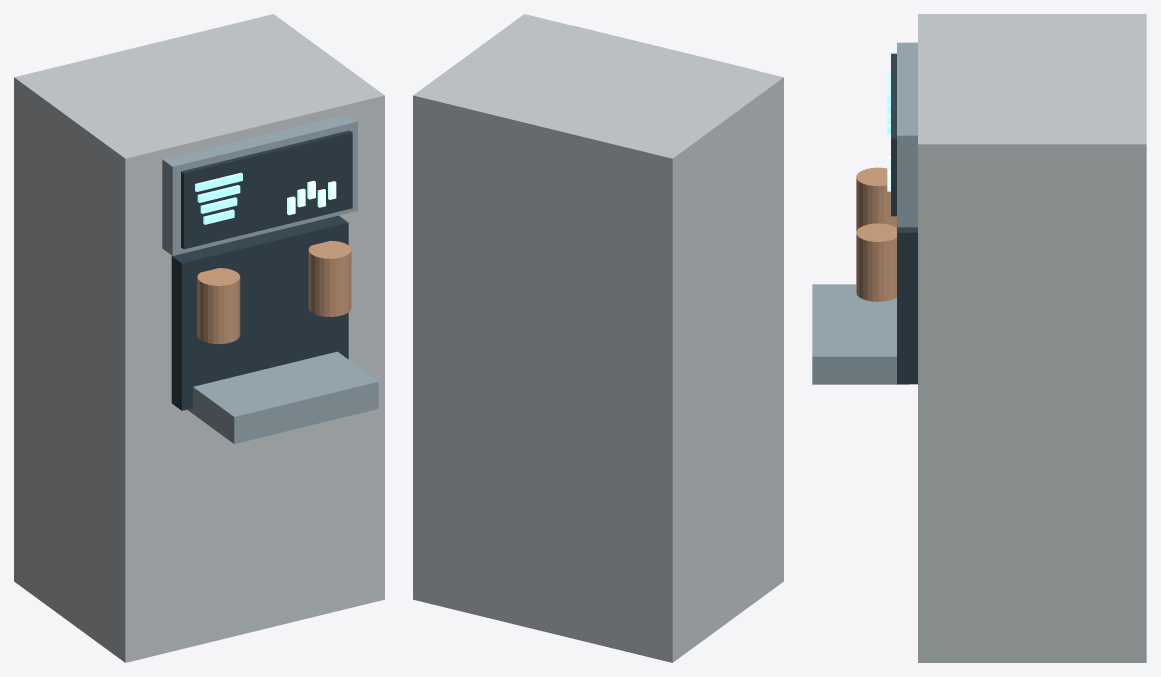
File: med_dispenser.glb
The picture shows the model from 3 angles, left to right: view 1: azimuth 30°, elevation 25°; view 2: azimuth 150°, elevation 25°; view 3: azimuth 270°, elevation 25°; orthographic projection. The views are drawn at different scales.
Parts seen in each view (by area): view 1: ivory_0, black_1, black_4, steel_2, steel_3, copper_15, copper_14; view 2: ivory_0; view 3: ivory_0, steel_2, steel_3, black_1, copper_15, copper_14, black_4.
Boxes of the visible parts, x1,y1,x2,y2 form: ivory_0: (14, 14, 384, 662); black_1: (171, 215, 348, 410); black_4: (181, 130, 352, 249); steel_2: (187, 351, 378, 443); steel_3: (162, 114, 357, 255); copper_15: (308, 240, 351, 316); copper_14: (197, 268, 240, 343); ivory_0: (413, 14, 783, 662); ivory_0: (918, 14, 1146, 662); steel_2: (812, 284, 908, 384); steel_3: (897, 42, 917, 227); black_1: (897, 227, 917, 384); copper_15: (856, 223, 896, 301); copper_14: (856, 167, 896, 231); black_4: (891, 53, 896, 216).
Size of the model in its own units: 0.7 by 1.3 by 0.76.
